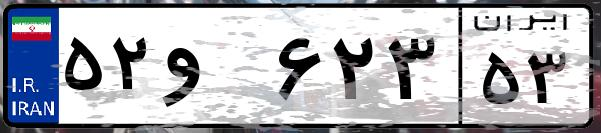2: (330, 28, 385, 110), (110, 28, 158, 98)
3: (385, 28, 445, 110), (525, 38, 570, 115)
5: (57, 26, 110, 100), (475, 38, 525, 113)
6: (270, 28, 330, 110)
و: (158, 20, 270, 120)
